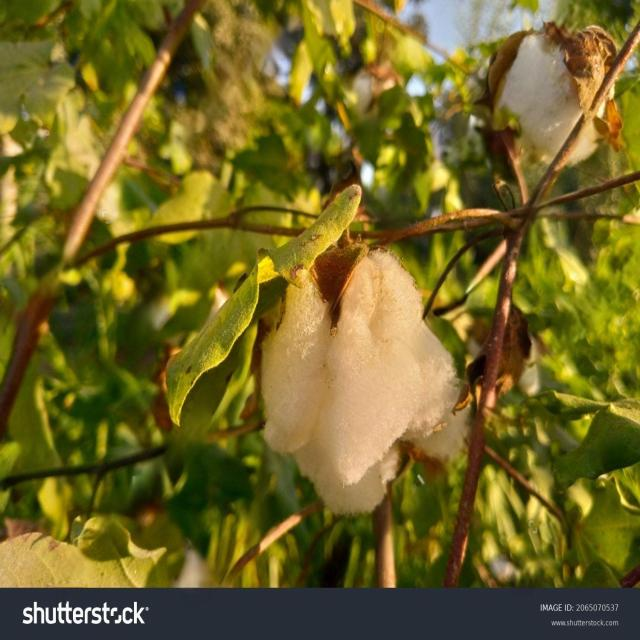Leaf: (246, 226, 483, 527), (482, 12, 640, 183)
